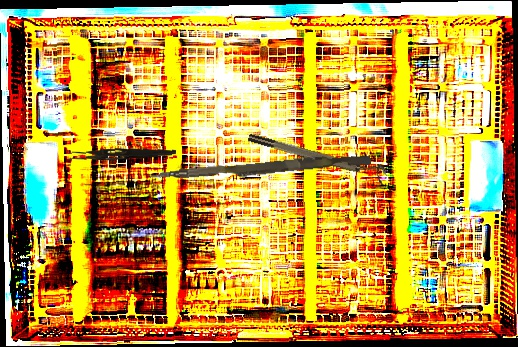Dressing Forceps: (67, 144, 177, 164)
Fixation Ring: (246, 125, 389, 185)
Pusher: (149, 149, 372, 188)
